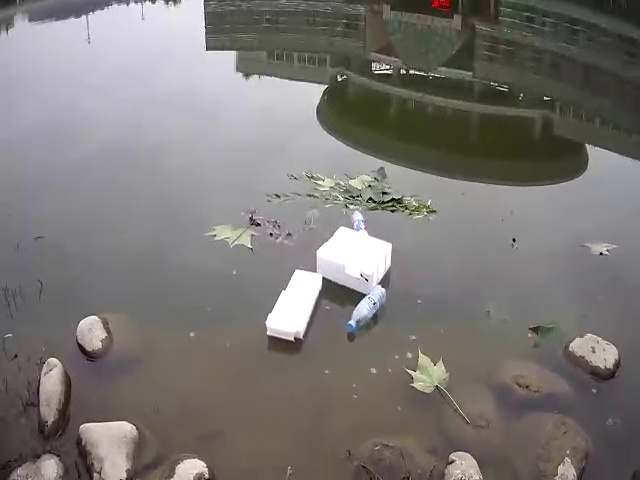bottle: (344, 283, 393, 335), (344, 208, 373, 238)
leaf: (275, 164, 440, 220), (403, 349, 453, 395), (204, 220, 259, 254), (524, 316, 563, 346), (582, 239, 624, 263)
paomo: (314, 222, 395, 294), (262, 264, 321, 347)
